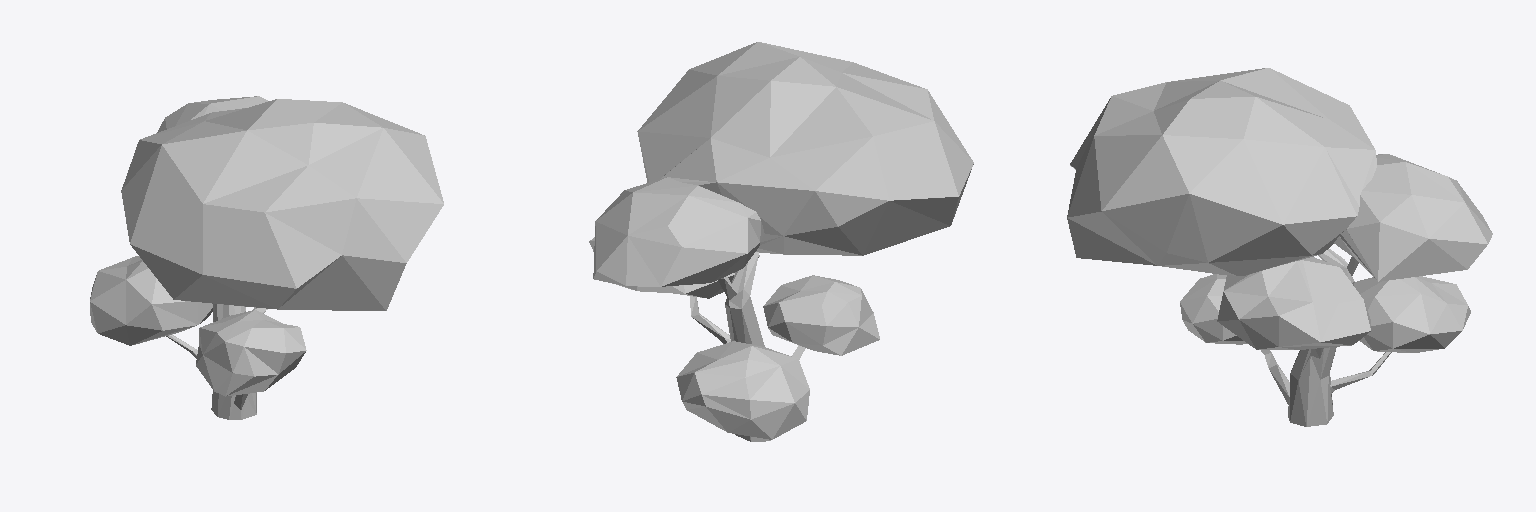
The model's file is bush03.obj.
The picture shows the model from 3 angles: view 1: azimuth 30°, elevation 25°; view 2: azimuth 150°, elevation 25°; view 3: azimuth 270°, elevation 25°; orthographic projection.
Parts seen in each view (by area): view 1: Cylinder; view 2: Cylinder; view 3: Cylinder.
Boxes of the visible parts, <box> form: Cylinder: <box>90,96,443,419</box>; Cylinder: <box>589,42,973,441</box>; Cylinder: <box>1067,68,1492,426</box>.
Bounding box in the file's own units: 0.9935 × 0.9815 × 1.16.